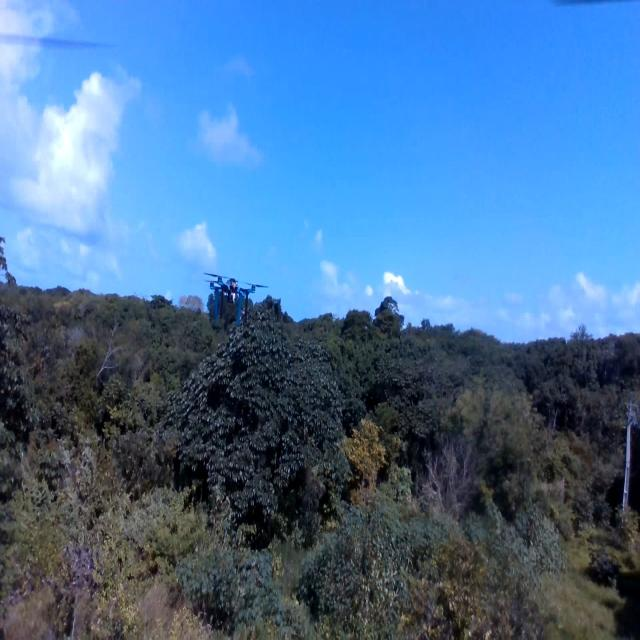-uav-: (200, 252, 276, 345)
